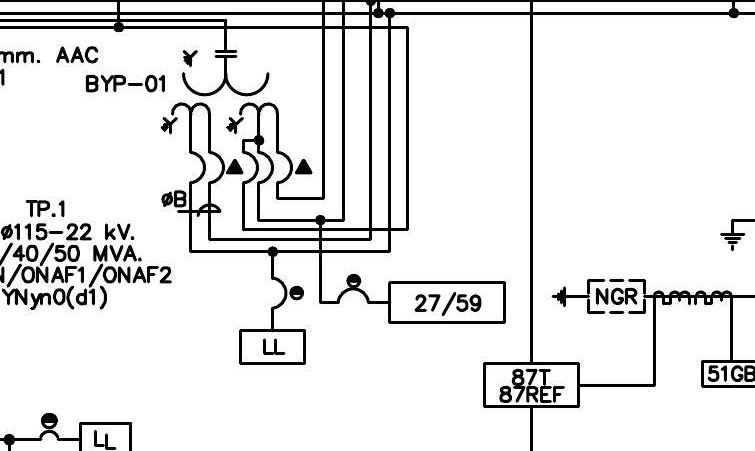115_cvt_3p: (160, 50, 280, 135)
LL: (239, 329, 306, 365)
NGR_future: (551, 278, 646, 315)
